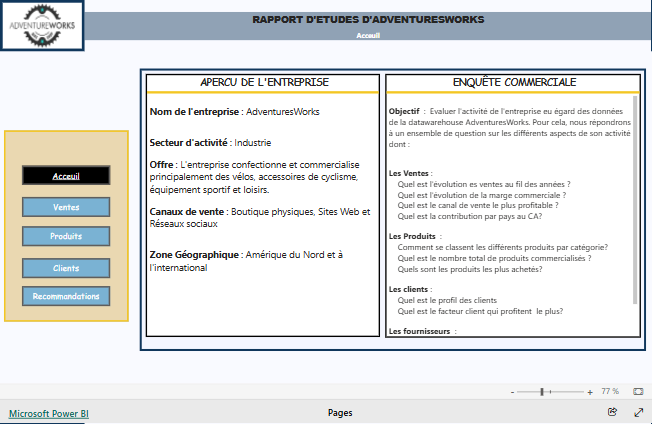

Layout of this report page (visuals, bound fields, positions):
{"tool":"powerbi","page":{"name":"ACCUEIL","canvas":[1280,720],"ordinal":0},"visuals":[{"type":"image","box":[0,0,165.9,100.4],"z":0},{"type":"shape","box":[273.6,133.9,994.1,554.6],"z":0,"group":"g1"},{"type":"textbox","title":"RAPPORT D''ETUDES D''ADVENTURESWORKS ","box":[165.9,23.3,1113.5,55.3],"z":1000},{"type":"shape","box":[8.1,255.8,244.5,375.5],"z":2000,"group":"g2"},{"type":"group","id":"g1","title":"Groupe 1","box":[273.6,133.9,994.1,554.6],"z":3000},{"type":"textbox","title":"APERCU DE L''ENTREPRISE ","box":[285.2,143.8,460,516.5],"z":4000,"group":"g1"},{"type":"actionButton","box":[43,386.8,173.2,39.3],"z":4000,"group":"g2"},{"type":"actionButton","box":[43,325.7,173.2,37.8],"z":5000,"group":"g2"},{"type":"textbox","title":"ENQUÊTE COMMERCIALE","box":[755.4,143.8,502.2,517.9],"z":6000,"group":"g1"},{"type":"actionButton","box":[43,443.6,173.2,39.3],"z":6000,"group":"g2"},{"type":"actionButton","box":[43,506.2,173.2,39.3],"z":7000,"group":"g2"},{"type":"actionButton","box":[43,561.5,173.2,39.3],"z":8000,"group":"g2"},{"type":"group","id":"g2","title":"Groupe 2","box":[8.1,255.8,246.1,374],"z":8001}]}

Visuals, with their boxes in screenshot pixels (x1, y1, x2, y2):
image: [5,2,88,52]
shape: [143,69,642,348]
"RAPPORT D''ETUDES D''ADVENTURESWORKS " textbox: [88,13,648,41]
shape: [9,130,132,319]
"Groupe 1" group: [143,69,642,348]
"APERCU DE L''ENTREPRISE " textbox: [148,74,379,333]
actionButton: [27,196,114,216]
actionButton: [27,165,114,184]
"ENQUÊTE COMMERCIALE" textbox: [385,74,637,334]
actionButton: [27,225,114,244]
actionButton: [27,256,114,276]
actionButton: [27,284,114,303]
"Groupe 2" group: [9,130,133,318]
